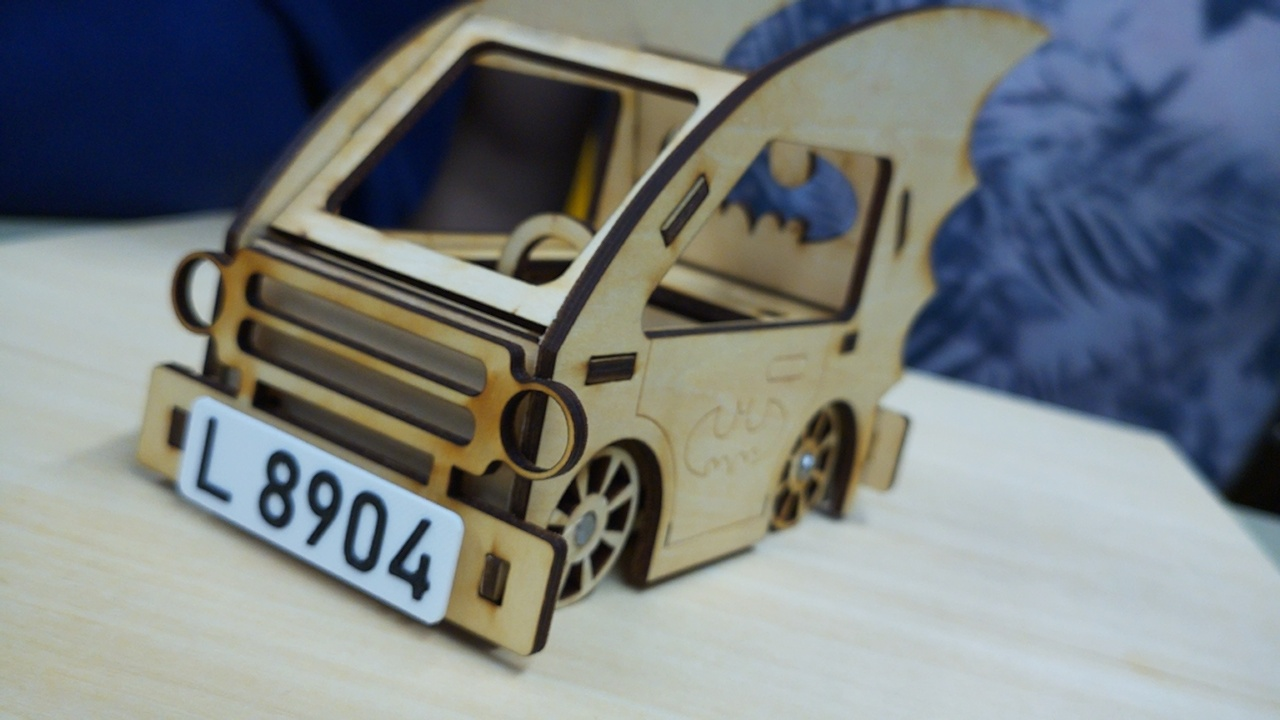license_plate: (175, 390, 467, 626)
